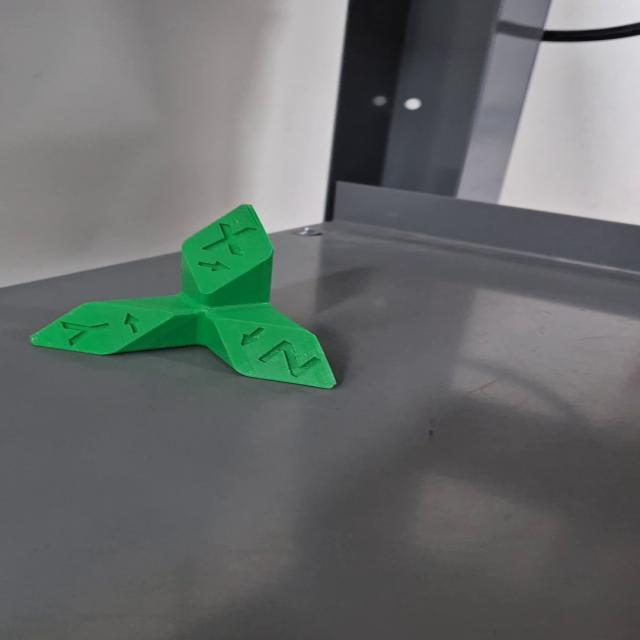objects: (21, 200, 348, 393)
